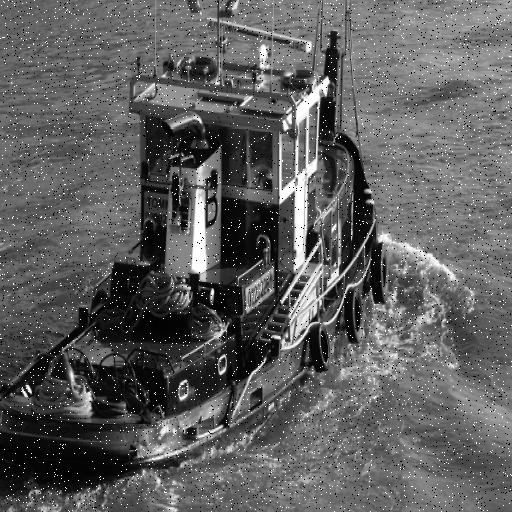tugboat: (1, 1, 392, 493)
